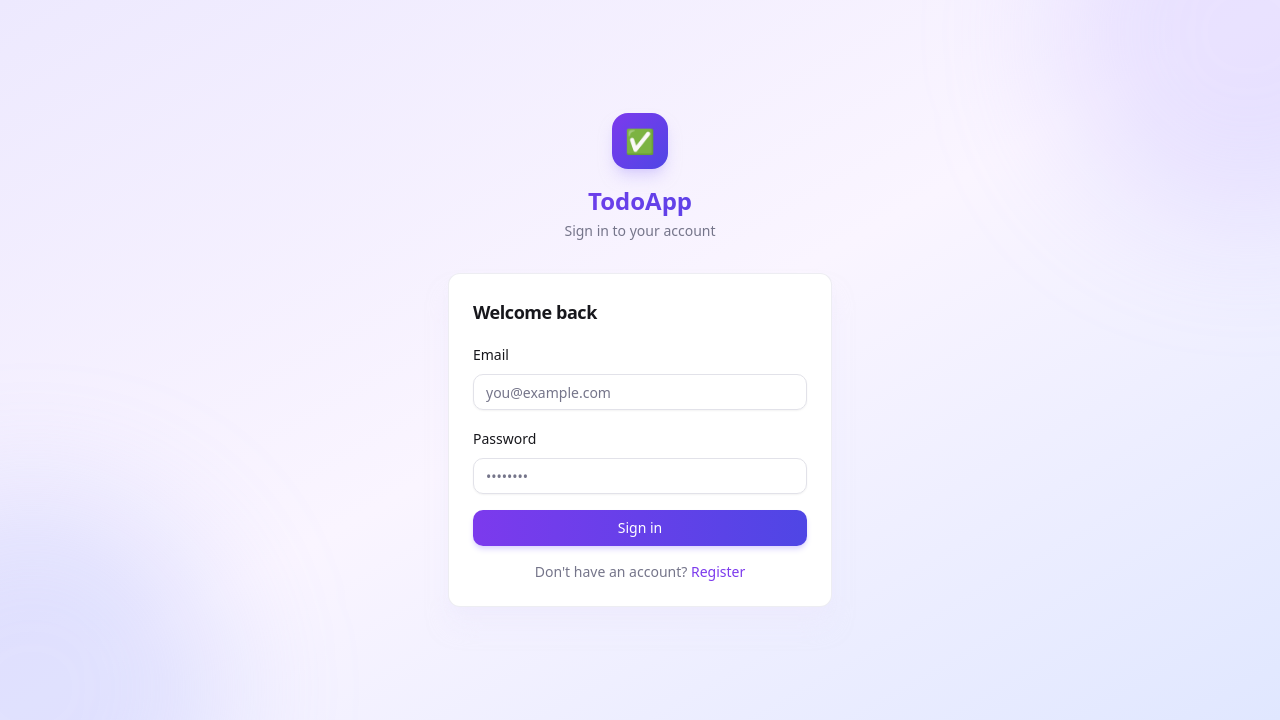
Test case: Authentication › shows validation errors on empty submit
The image size is (1280, 720).
What coordinates should you click on to do the following:
click the button with test id "login-form-submit-button"
I would click on:
 (640, 528)
Its box is [473, 510, 807, 546].
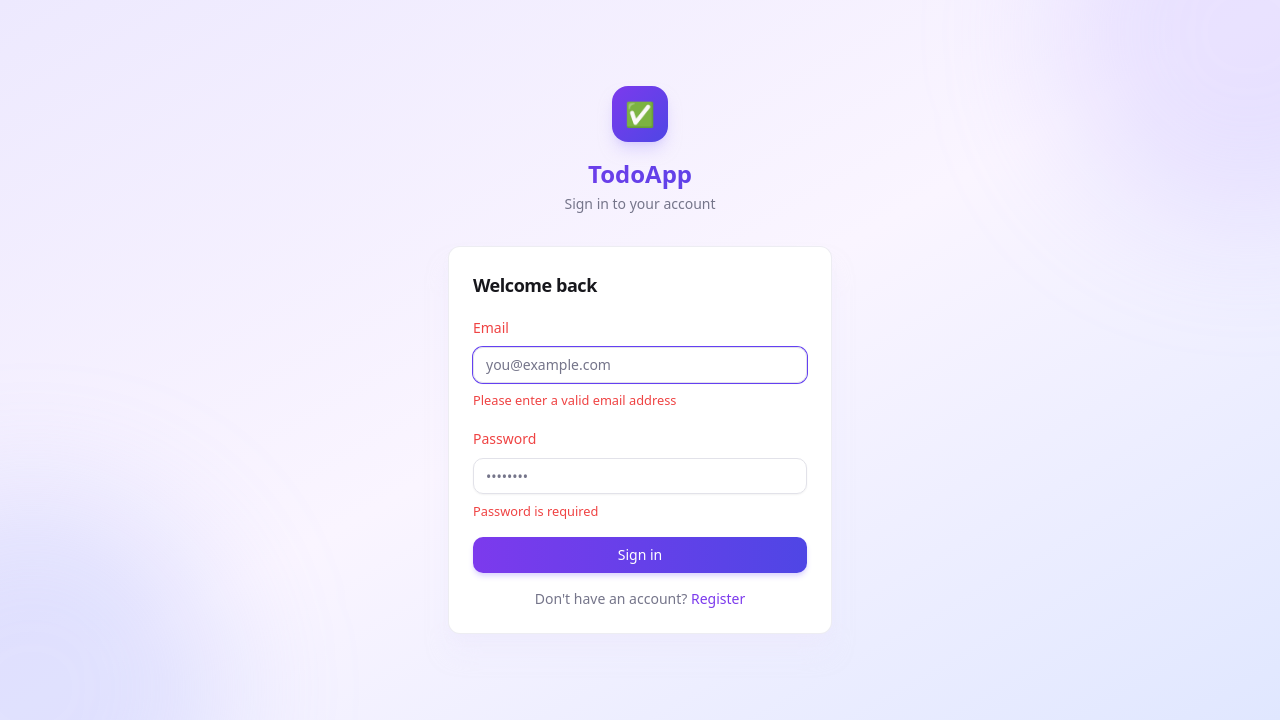
Now the text "valid email" is shown, box [473, 391, 676, 409]
